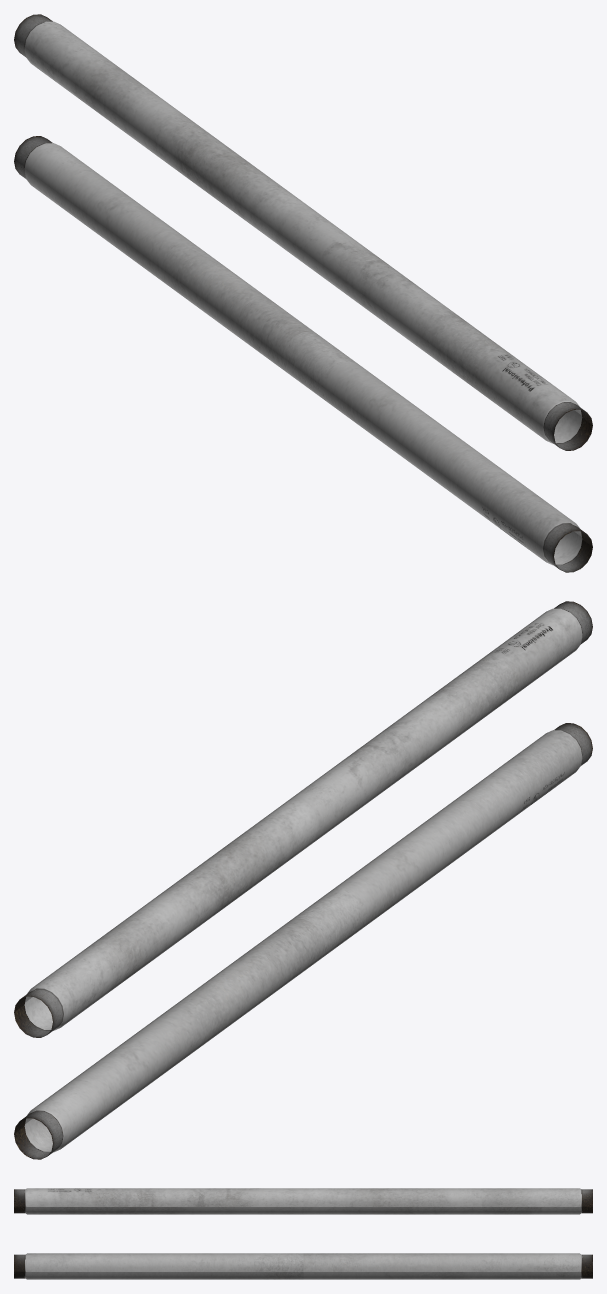
The model's file is Light_Fixture_Bulbs_low.obj.
3 views of the same model, one above another, from view 1: azimuth 30°, elevation 25°; view 2: azimuth 150°, elevation 25°; view 3: azimuth 270°, elevation 25° (orthographic). The views are drawn at different scales.
Size of the model in its own units: 0.04 by 0.1491 by 0.8785.
